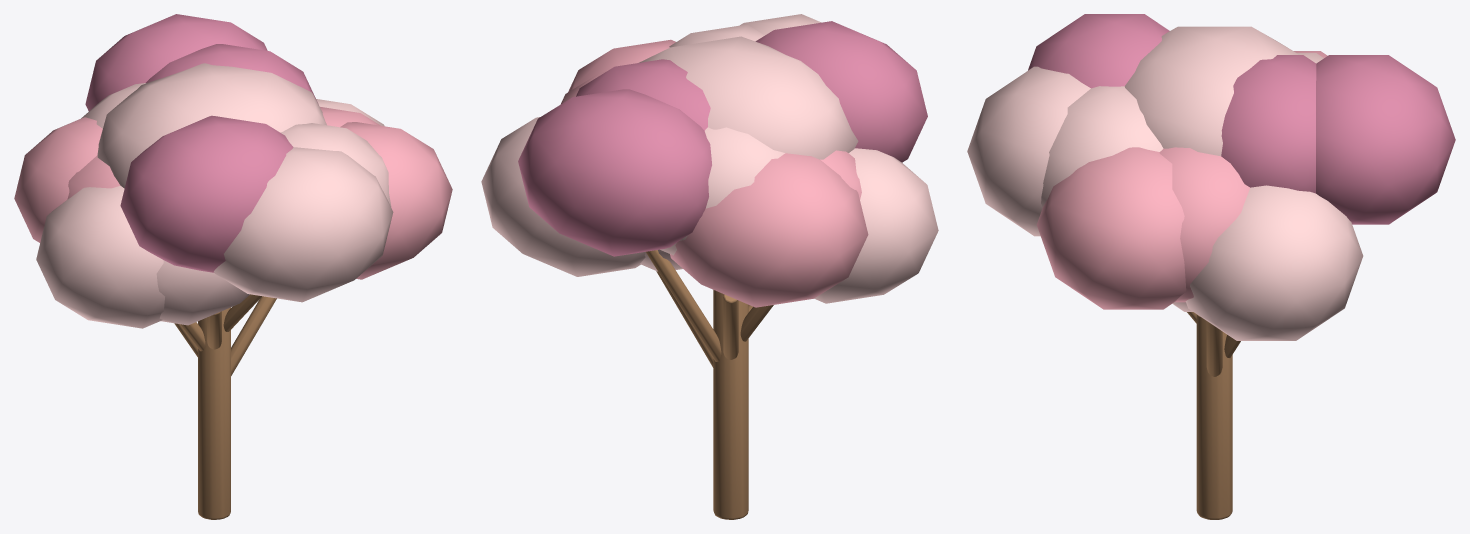
File: blossom-tree.glb
The picture shows the model from 3 angles, left to right: view 1: azimuth 30°, elevation 25°; view 2: azimuth 150°, elevation 25°; view 3: azimuth 270°, elevation 25°; orthographic projection. The views are drawn at different scales.
Visible parts, largest first — view 1: blossom-tree; view 2: blossom-tree; view 3: blossom-tree.
Part boxes in pixels (<box>): blossom-tree: <box>14,14,452,519</box>; blossom-tree: <box>481,14,938,519</box>; blossom-tree: <box>967,14,1455,519</box>.
Size of the model in its own units: 4.71 by 5.3 by 4.94.
